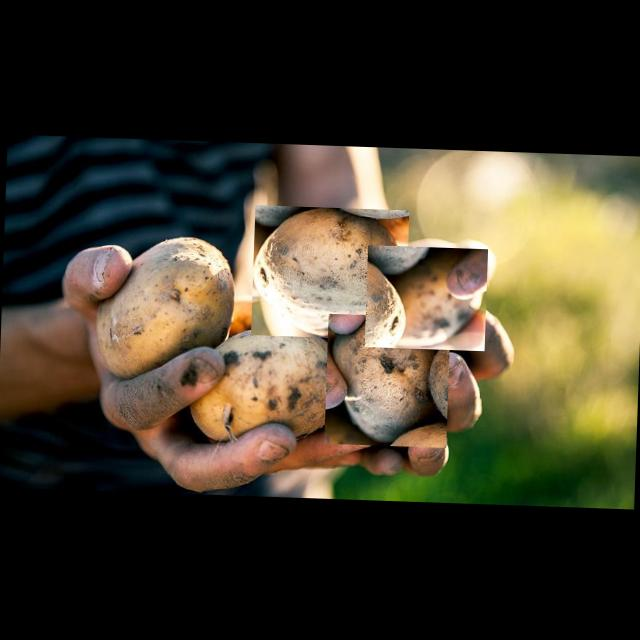Diseased-fungal potato: (250, 204, 408, 339), (93, 232, 235, 382), (186, 321, 350, 444), (323, 313, 449, 447), (364, 243, 486, 349)
